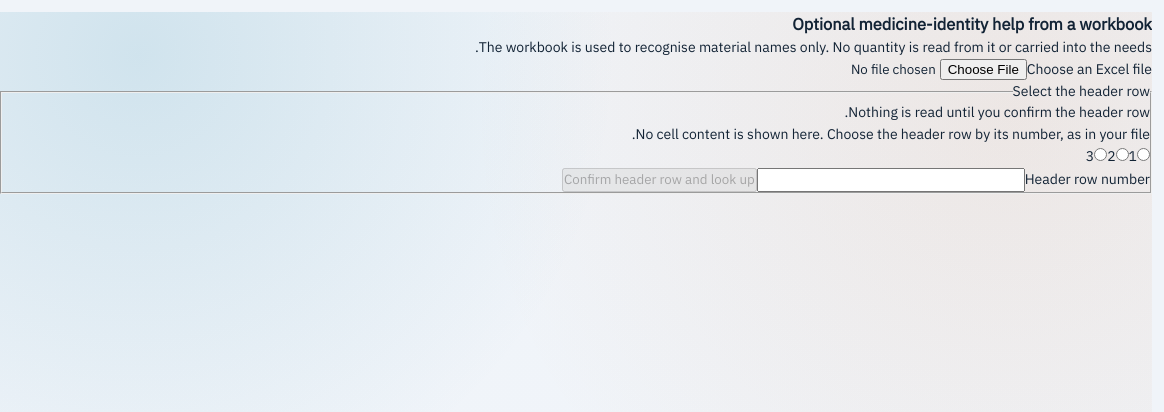
Test: results are suggestions the person acts on › a confirmed row without a name column reports it and extracts nothing
Step 1. Click the radio button named "Row 3" → click(1101, 154), box [1094, 148, 1107, 161]
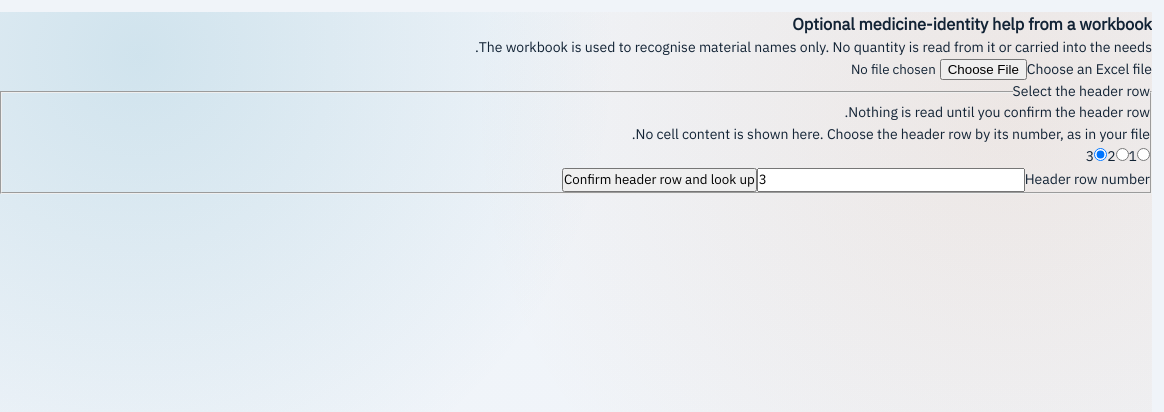
Step 2. Click the button "Confirm header row and look up" → click(659, 180), box [562, 168, 757, 192]
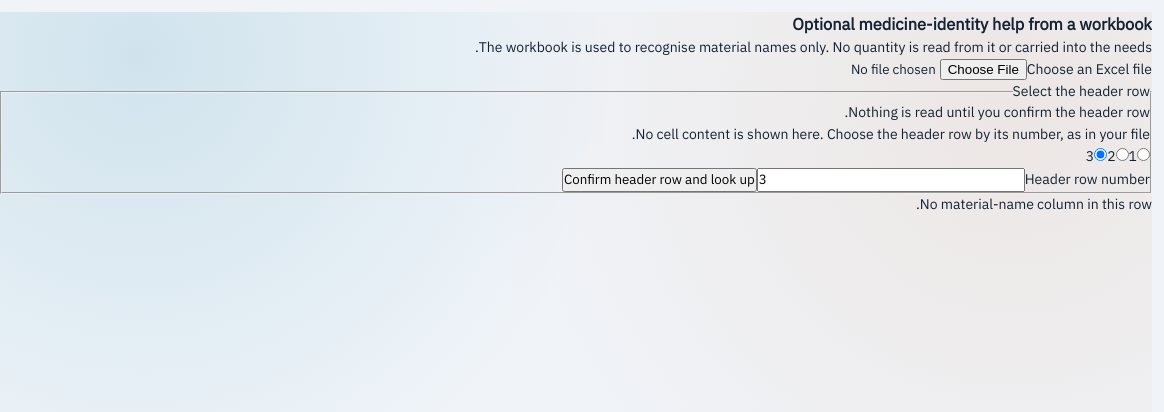
Expected: the text "No material-name column in this row." is shown, [916, 194, 1152, 214]
